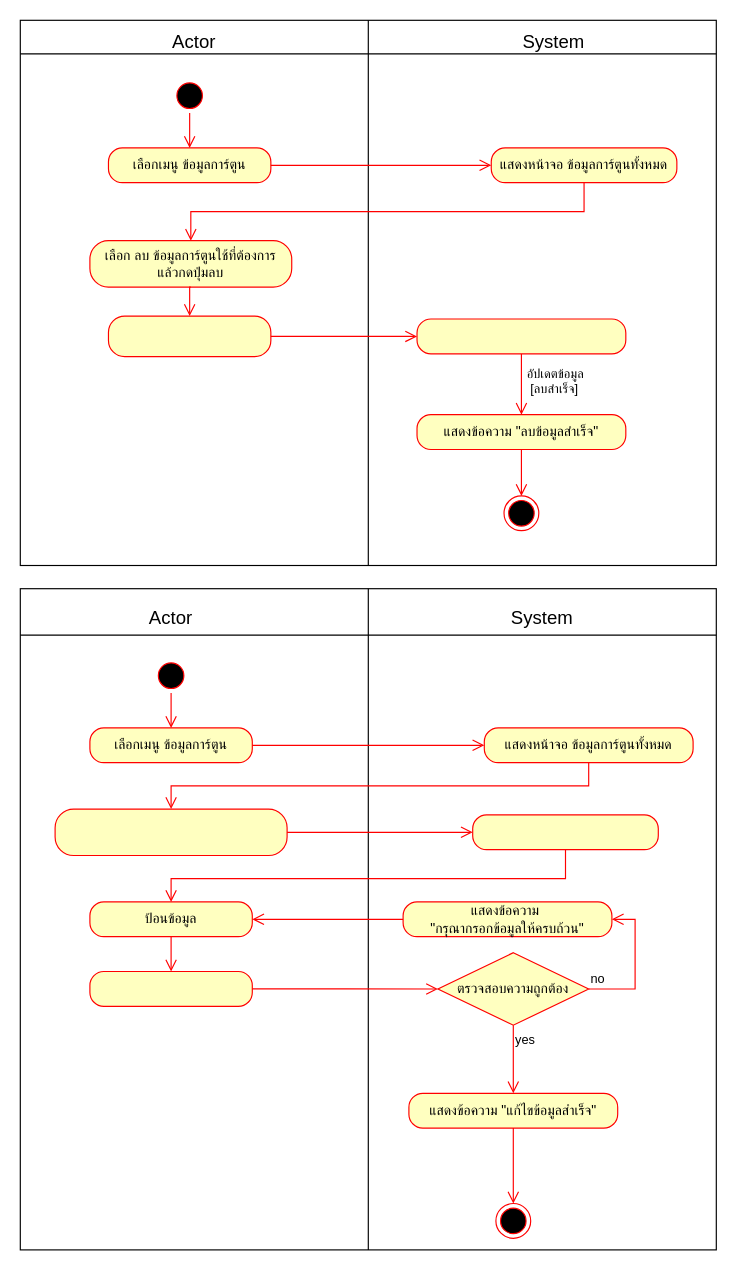
This 738x1271 diagram has some shape labels left out. The box of each missing label's shape, as (x1, y1, x2, y2) in pixels:
กดปุ่ม ยืนยัน: (107, 315, 271, 357)
กดปุ่ม อัปเดต: (89, 970, 252, 1006)
ลบข้อมูลการ์ตูน: (416, 318, 626, 354)
เลือก แก้ไข ข้อมูลการ์ตูนต้องการ แล้วกดปุ่มแก้ไข: (54, 808, 287, 855)
แสดงหน้าจอให้กรอกข้อมูล: (472, 814, 658, 850)
